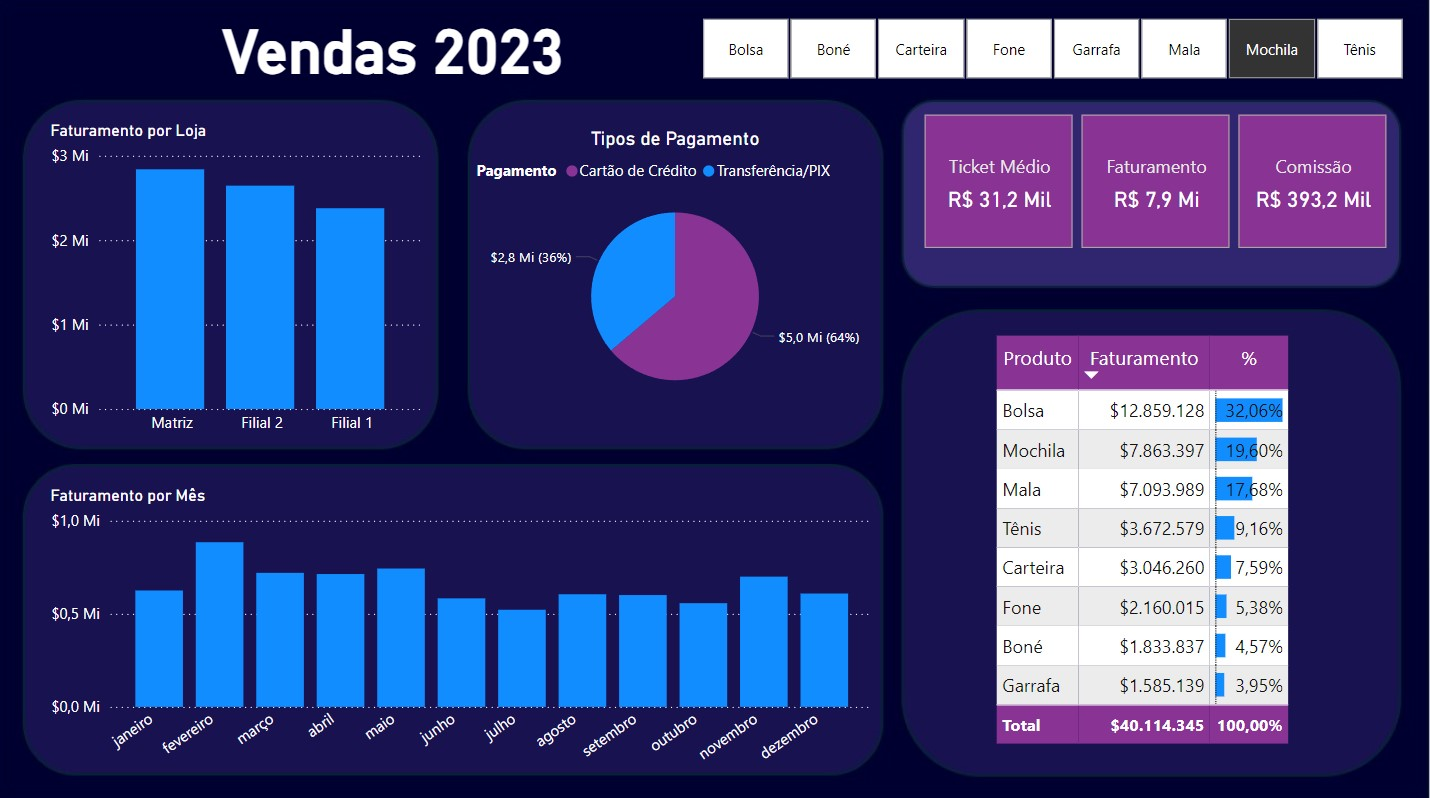

Layout of this report page (visuals, bound fields, positions):
{"tool":"powerbi","page":{"name":"Página 1","canvas":[1280,720],"ordinal":0},"visuals":[{"type":"columnChart","title":"Faturamento por Mês","fields":{"Category":["Vendas 2023.Data Pedido.Variation.Hierarquia de datas.Mês"],"Y":["Sum(Vendas 2023.Faturamento)"]},"box":[44.9,436.1,743.8,267.1],"z":0},{"type":"pieChart","title":"Tipos de Pagamento","fields":{"Y":["Sum(Vendas 2023.Faturamento)"],"Category":["Vendas 2023.Pagamento"]},"box":[424.6,115.8,364.1,254.5],"z":1000},{"type":"columnChart","fields":{"Y":["Sum(Vendas 2023.Faturamento)"],"Category":["Lojas.Nome Loja"]},"box":[44.9,110.6,343.2,287.9],"z":2000},{"type":"tableEx","fields":{"Values":["Vendas 2023.Produto","Sum(Vendas 2023.Faturamento)","Divide(Sum(Vendas 2023.Faturamento), ScopedEval(Sum(Vendas 2023.Faturamento), []))"]},"box":[887.8,297.3,317.1,382.9],"z":3000},{"type":"slicer","fields":{"Values":["Vendas 2023.Produto"]},"box":[606.1,12.5,673.9,66.8],"z":4000},{"type":"cardVisual","fields":{"Data":["_Medidas.Ticket Médio","_Medidas.Faturamento Total","Sum(Vendas 2023.Comissão)"]},"box":[824.1,100.1,423.5,129.4],"z":5000},{"type":"card","fields":{"Values":["_Medidas._titulo dashboard"]},"box":[171.2,3.9,367.7,75.9],"z":6000}]}

Visuals, with their boxes in screenshot pixels (x1, y1, x2, y2), scaled from the page's 1280x720 canvas onto the 1430x798 screenshot:
"Faturamento por Mês" columnChart: region(50, 483, 881, 779)
"Tipos de Pagamento" pieChart: region(474, 128, 881, 410)
columnChart - Sum(Vendas 2023.Faturamento) x Lojas.Nome Loja: region(50, 123, 434, 442)
tableEx - Vendas 2023.Produto x Sum(Vendas 2023.Faturamento): region(992, 330, 1346, 754)
slicer - Vendas 2023.Produto: region(677, 14, 1429, 88)
cardVisual - _Medidas.Ticket Médio x _Medidas.Faturamento Total: region(921, 111, 1394, 254)
card - _Medidas._titulo dashboard: region(191, 4, 602, 88)
